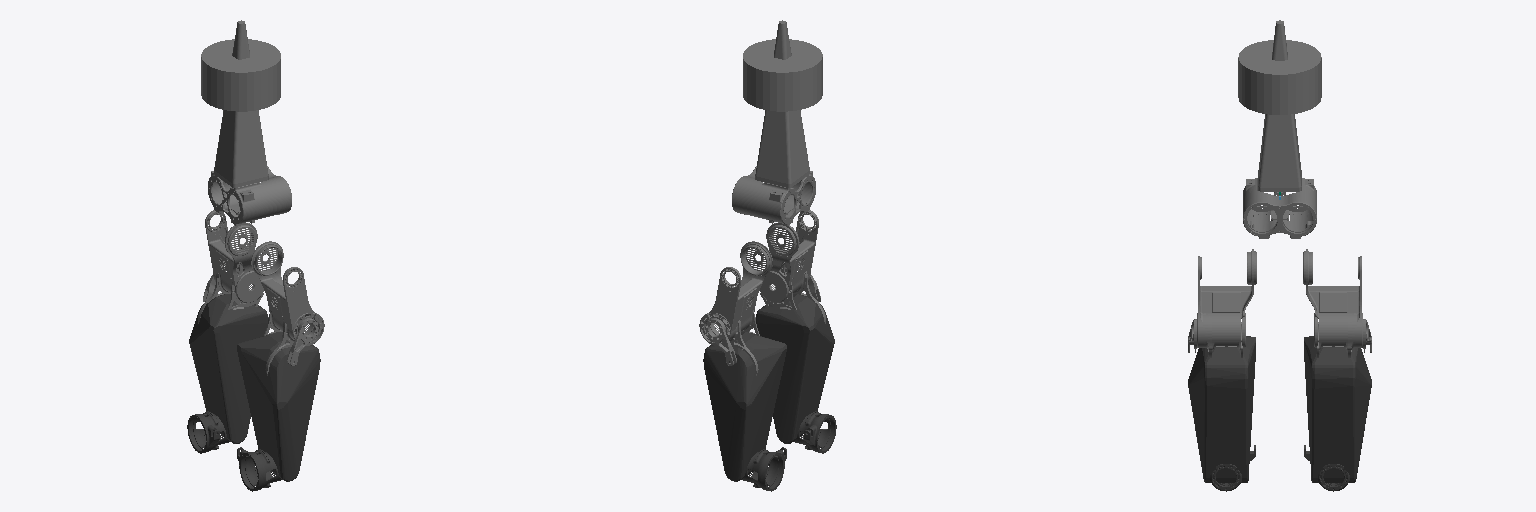
--- Facts derived from the render (not from the file) ---
Views: 3 orthographic renders of the robot side by side, from view 1: azimuth 30°, elevation 25°; view 2: azimuth 150°, elevation 25°; view 3: azimuth 270°, elevation 25°.
Model bigman with 35 links and 34 joints (12 revolute, 21 fixed, 1 floating), rooted at world, posed every joint at zero.
Visible links, largest first — view 1: RLowLeg, LLowLeg, ExtraWeight, RThighLowLeg, LThighLowLeg, PelvisWeightBench, Waist, RFootmot, LFootmot; view 2: LLowLeg, RLowLeg, ExtraWeight, LThighLowLeg, RThighLowLeg, PelvisWeightBench, Waist, LFootmot, RFootmot; view 3: RLowLeg, LLowLeg, ExtraWeight, RThighLowLeg, LThighLowLeg, PelvisWeightBench, Waist.
Link boxes in pixels (x1,y1,x2,y2): RLowLeg: [237, 332, 320, 481]; LLowLeg: [189, 294, 267, 443]; ExtraWeight: [201, 39, 280, 111]; RThighLowLeg: [251, 241, 324, 375]; LThighLowLeg: [198, 210, 263, 323]; PelvisWeightBench: [214, 20, 268, 187]; Waist: [208, 166, 291, 225]; RFootmot: [237, 447, 281, 491]; LFootmot: [187, 411, 229, 453]; LLowLeg: [703, 332, 786, 481]; RLowLeg: [756, 294, 834, 443]; ExtraWeight: [743, 39, 822, 111]; LThighLowLeg: [699, 241, 772, 375]; RThighLowLeg: [760, 210, 825, 323]; PelvisWeightBench: [755, 20, 809, 187]; Waist: [732, 166, 815, 225]; LFootmot: [742, 447, 786, 491]; RFootmot: [794, 411, 836, 453]; RLowLeg: [1188, 336, 1255, 482]; LLowLeg: [1304, 336, 1371, 482]; ExtraWeight: [1238, 40, 1321, 114]; RThighLowLeg: [1188, 249, 1256, 357]; LThighLowLeg: [1303, 249, 1371, 357]; PelvisWeightBench: [1258, 20, 1301, 191]; Waist: [1243, 178, 1316, 238].
Bounding box of the posed robot: 0.317 × 0.6161 × 1.71 m (x, y, z).
Meshes: 8 distinct files referenced, 8 mesh visuals loaded (5 binary STL); not drawn: 2 (reference not matched to a file when rendering), 4 (file found but could not be loaded).

robot.urdf — bigman:
<?xml version="1.0" ?>
<!-- =================================================================================== -->
<!-- |    This document was autogenerated by xacro from bigman_robot.urdf.xacro        | -->
<!-- |    EDITING THIS FILE BY HAND IS NOT RECOMMENDED                                 | -->
<!-- =================================================================================== -->
<!--robot xmlns:xacro="http://ros.org/wiki/xacro" name="bigman"-->
<robot name="bigman" xmlns:xacro="http://ros.org/wiki/xacro">
  <!--
  ROS urdf definition of the BIGMAN humanoid robot by Istituto Italiano di Tecnologia
  
  Author: Enrico Mingo
  
  This file groups files to use BIGMAN in GAZEBO
  
  -->
  <!-- Uncomment this to have the robot rigidly connected to the world -->
  <!--  <link name="world"/>
  
   <joint name="fixed" type="fixed">
    <parent link="world"/>
    <child link="base_link"/>
  </joint>
  
  <origin xyz="0.0 0.0 1.5" rpy="0 0 0" /> -->
  <!-- ROBOT -->
  <!-- 
  ROS urdf definition of the BIGMAN humanoid robot by Istituto Italiano di Tecnologia
  
  DO NOT INCLUDE THIS FILE DIRECTLY! USE bigman_robot.urdf.xacro INSTEAD!

  Author: Enrico Mingo & Alessio Rocchi

  Inertial matrix has to be in CoM frame (URDF specs)

  Velocity and effort limits are fake!
-->
  <!-- ************ MODEL CONFIGURATION ************ -->
  <!--
####################################################
##
##  BIGMAN_YARP
##  if "true" the bigman robot is controlled via YARP
##
####################################################
-->
  <!--
####################################################
##
##  BIGMAN_XBOT
##  if "true" the bigman robot is controlled via
##  XBotCore Suite
##
####################################################
-->
  <!--
####################################################
##
##  BIGMAN_UPPER_BODY
##  if "true" the kinematic chains of the arms and torso 
##  will be used to generate the model
##
####################################################
-->
  <!--
####################################################
##
##  BIGMAN_LEGS
##  if "true" the kinematic chains of the legs
##  will be used to generate the model
##
####################################################
-->
  <!--
####################################################
##
##  BIGMAN_OLD_CHEST
##  if "true" the old version of the chest will be
##  used.
##  
##
####################################################
-->
  <!--
####################################################
##
##  BIGMAN_FIXED_HANDS
##  if "true" a fixed joint between wrist and hand 
##  will be used otherwise a rotative joints will
##  be used.
##  
##
####################################################
-->
  <!--
####################################################
##
##  BIGMAN_FIXED_MULTISENSE
##  if "true" a fixed joint between "head" and 
##  "hokuyo_link" will be used otherwise a continuous 
##  joints will be used.
##  
##
####################################################
-->
  <!--
####################################################
##
##  BIGMAN_HEAD
##  if "true" a fixed joint between "NeckPitch" and
##  "head" will be used to connect the head to the rest
##  of the body. If "false" the head will not be added 
##  to the model (this is the case when the multisense
##  from the launch file is used). 
##  
##
####################################################
-->
  <!--
####################################################
##
##  BIGMAN_ADD_PROTECTIONS
##  if "true" the protections are added to the model.
##  
##
####################################################
-->
  <!--
####################################################
##
##  BIGMAN_ADD_BACKPACK
##  if "true" the backpack is added to the model.
##  
##
####################################################
-->
  <!--
####################################################
##
##  BIGMAN_ADD_RAISING_SUPPORT
##  if "true" the raising support are added to the model.
##  
##
####################################################
-->
  <!--
####################################################
##
##  BIGMAN_NEW_FEET
##  if "true" the new feet with the joint in the middle
##  are used to the model.
##  
##
####################################################
-->
  <!--
####################################################
##
##  BIGMAN_SAFETY_JOINT_LIMITS_X
##  if "true" the more strict joint limits are used 
##  for the X part
##  
##
####################################################
-->
  <!--
####################################################
##
##  BIGMAN_FLOATING_BASE
##  if "true" virtual kinematic chains is attached between 
##  "world" and "base_link"
##  
##
####################################################
-->
  <!--
####################################################
##
##  BIGMAN_MAGNETIC_ATTACH_ROS
##  if "true" the magnetic_attach_ros plugin is used
##  for the hands
##  
##
####################################################
-->
  <!-- ***********  MODEL COLORS *********** -->
  <material name="grey">
    <color rgba="0.5 0.5 0.5 1"/>
  </material>
  <material name="dark_grey">
    <color rgba="0.3 0.3 0.3 1"/>
  </material>
  <material name="blue">
    <color rgba="0.0 0.2 0.3 1"/>
  </material>
  <!-- ************ BIGMAN BASE ************** -->
  <!-- 
  ROS urdf definition of the BIGMAN humanoid robot by Istituto Italiano di Tecnologia
  
  DO NOT INCLUDE THIS FILE DIRECTLY! USE bigman_robot.urdf.xacro INSTEAD!

  Author: Enrico Mingo & Alessio Rocchi

  Inertial matrix has to be in CoM frame (URDF specs)

  Velocity and effort limits are fake!
-->
  <!--
The coordinate frame called base_link is rigidly attached to the robot root body. It is recommended to choose the robot waist as its root body. The base_link can be attached to the root in any arbitrary position or orientation; for every hardware platform there will be a different place on the base that provides an obvious point of reference. Note that REP 103 [1] specifies a preferred orientation for frames. -->
  <link name="base_link"/>
  <link name="Waist">
    <inertial>
      <origin rpy="0.0 0.0 0.0" xyz="-0.022813402 -0.00073935443 0.030422909"/>
      <mass value="1.1046081e+01"/>
      <inertia ixx="0.096207978" ixy="0.00014081043" ixz="0.0031258127" iyy="0.098511158" iyz="0.00013938149" izz="0.086541531"/>
    </inertial>
    <visual>
      <origin rpy="0 0 0" xyz="0 0 0"/>
      <geometry name="Waist_visual">
        <mesh filename="package://bigman_urdf/meshes/Waist.STL" scale="0.001 0.001 0.001"/>
      </geometry>
      <material name="grey"/>
    </visual>
    <collision>
      <origin rpy="0 0 0" xyz="0 0 0"/>
      <geometry name="Waist_collision">
        <mesh filename="package://bigman_urdf/meshes/simple/Waist.STL" scale="0.001 0.001 0.001"/>
      </geometry>
    </collision>
  </link>
  <joint name="base_joint" type="fixed">
    <parent link="base_link"/>
    <child link="Waist"/>
    <origin rpy="0 0 0" xyz="0 0 0"/>
  </joint>
  <!-- ********************FAKE TORSO******************** -->
  <!-- ************** CHANGE BY USER ************** -->
  <!-- ******************************************** -->
  <link name="PelvisWeightBench">
    <inertial>
      <origin rpy="0 0 0" xyz="0.0 0.0 0.18846109"/>
      <mass value="5.5278386"/>
      <inertia ixx="0.15195067" ixy="0.0" ixz="-2.419189e-07" iyy="0.15213465" iyz="0.0" izz="0.0051389419"/>
    </inertial>
    <visual>
      <origin rpy="0 0 0" xyz="0 0 0"/>
      <geometry name="PelvisWeightBench_visual">
        <mesh filename="package://bigman_urdf/meshes/PelvisWeightBench.STL" scale="0.001 0.001 0.001"/>
      </geometry>
      <material name="grey"/>
    </visual>
    <collision>
      <origin rpy="0 0 0" xyz="0 0 0"/>
      <geometry name="PelvisWeightBench_collision">
        <mesh filename="package://bigman_urdf/meshes/simple/PelvisWeightBench.STL" scale="0.001 0.001 0.001"/>
      </geometry>
    </collision>
  </link>
  <link name="ExtraWeight">
    <inertial>
      <origin rpy="0 0 0" xyz="0.0 0.0 0.075"/>
      <mass value="20.0"/>
      <inertia ixx="0.1355" ixy="0.0" ixz="0.0" iyy="0.1355" iyz="0.0" izz="0.196"/>
    </inertial>
    <visual>
      <origin rpy="0 0 0" xyz="0 0 0"/>
      <geometry name="ExtraWeight_visual">
        <cylinder length="0.15" radius="0.14"/>
      </geometry>
      <material name="grey"/>
    </visual>
    <collision>
      <origin rpy="0 0 0" xyz="0 0 0"/>
      <geometry name="ExtraWeight_collision">
        <cylinder length="0.15" radius="0.14"/>
      </geometry>
    </collision>
  </link>
  <joint name="PelvisWeightBench_joint" type="fixed">
    <parent link="Waist"/>
    <child link="PelvisWeightBench"/>
    <origin rpy="0 0 1.57079632679" xyz="-0.035 0 0.075"/>
  </joint>
  <joint name="ExtraWeight_joint" type="fixed">
    <parent link="PelvisWeightBench"/>
    <child link="ExtraWeight"/>
    <origin rpy="0 0 0" xyz="0.0 0 0.39"/>
  </joint>
  <!-- ********************LEGS******************** -->
  <!-- This links are defined in order to be compliant with http://www.ros.org/reps/rep-0120.html#coordinate-frames
	and to define the end effectors of the robot -->
  <!--  position and orientation of the leg regardless of the support body geometry -->
  <link name="l_ankle"/>
  <link name="r_ankle"/>
  <!-- position and orientation of the left leg support body. The (X,Y) plane of this frame must be coplanar with the support body contact surface. It is recommended to choose the origin as the projection of the support body origin on the contact surface. The Z coordinate of this frame should be on the ground level when standing. -->
  <link name="l_sole"/>
  <link name="r_sole"/>
  <!--  position and orientation of the leg toe body. The (X,Y) plan of this frame must be coplanar with the toe body contact surface. It is recommended to choose the origin as the projection of the body center on the contact surface. -->
  <link name="l_toe"/>
  <link name="r_toe"/>
  <!-- LINKS -->
  <!-- ********************RIGHT LEG******************** -->
  <link name="RHipMot">
    <inertial>
      <origin rpy="0 0 0" xyz="-0.10348188 -0.10919813 -0.064924056"/>
      <mass value="3.7958197"/>
      <inertia ixx="0.015639017" ixy="0.0018504661" ixz="0.0023907793" iyy="0.023519749" iyz="-0.0023303162" izz="0.020953643"/>
    </inertial>
    <visual>
      <origin rpy="0 0 0" xyz="0 0 0"/>
      <geometry name="RHipMot_visual">
        <mesh filename="package://bigman_urdf/meshes/HipRoll.STL" scale="0.001 0.001 0.001"/>
      </geometry>
      <material name="dark_grey"/>
    </visual>
    <collision>
      <origin rpy="0 0 0" xyz="0 0 0"/>
      <geometry name="RHipMot_collision">
        <mesh filename="package://bigman_urdf/meshes/simple/HipRoll.STL" scale="0.001 0.001 0.001"/>
      </geometry>
    </collision>
  </link>
  <link name="RThighUpLeg">
    <inertial>
      <origin rpy="0 0 0" xyz="-0.0052929709 -0.022561833 0.0056701669"/>
      <mass value="3.2402068"/>
      <inertia ixx="0.010102097" ixy="0.00010858487" ixz="0.00025291395" iyy="0.0067147" iyz="8.3447072e-05" izz="0.01048513"/>
    </inertial>
    <visual>
      <origin rpy="0 0 0" xyz="0 0 0"/>
      <geometry name="RThighUpLeg_visual">
        <mesh filename="package://bigman_urdf/meshes/HipYaw.STL" scale="0.001 0.001 0.001"/>
      </geometry>
      <material name="dark_grey"/>
    </visual>
    <collision>
      <origin rpy="0 0 0" xyz="0 0 0"/>
      <geometry name="RThighUpLeg_collision">
        <mesh filename="package://bigman_urdf/meshes/simple/HipYaw.STL" scale="0.001 0.001 0.001"/>
      </geometry>
    </collision>
  </link>
  <link name="RThighLowLeg">
    <inertial>
      <origin rpy="0 0 0" xyz="0.037746286 -0.028539939 -0.19310133"/>
      <mass value="5.0950736"/>
      <inertia ixx="0.051607858" ixy="0.0022253472" ixz="0.002452979" iyy="0.044349153" iyz="-0.0041006942" izz="0.023374453"/>
    </inertial>
    <visual>
      <origin rpy="0 0 0" xyz="0 0 0"/>
      <geometry name="RThighLowLeg_visual">
        <mesh filename="package://bigman_urdf/meshes/HipPitch.STL" scale="0.001 0.001 0.001"/>
      </geometry>
      <material name="grey"/>
    </visual>
    <collision>
      <origin rpy="0 0 0" xyz="0 0 0"/>
      <geometry name="RThighLowLeg_collision">
        <mesh filename="package://bigman_urdf/meshes/simple/HipPitch.STL" scale="0.001 0.001 0.001"/>
      </geometry>
    </collision>
  </link>
  <link name="RLowLeg">
    <inertial>
      <origin rpy="0 0 0" xyz="-0.0050828668 0.0037732093 -0.072605017"/>
      <mass value="5.6495309"/>
      <inertia ixx="0.10535542" ixy="-0.00058199221" ixz="0.0016743598" iyy="0.097857796" iyz="-0.0033770181" izz="0.020854086"/>
    </inertial>
    <visual>
      <origin rpy="0 0 0" xyz="0 0 0"/>
      <geometry name="RLowLeg_visual">
        <mesh filename="package://bigman_urdf/meshes/KneePitchCalf.STL" scale="0.001 0.001 0.001"/>
      </geometry>
      <material name="dark_grey"/>
    </visual>
    <collision>
      <origin rpy="0 0 0" xyz="0 0 0"/>
      <geometry name="RLowLeg_collision">
        <mesh filename="package://bigman_urdf/meshes/simple/KneePitchCalf.STL" scale="0.001 0.001 0.001"/>
      </geometry>
    </collision>
  </link>
  <link name="RFootmot">
    <inertial>
      <origin rpy="0 0 0" xyz="-0.022024173 0.0025677238 0.00094588455"/>
      <mass value="3.2844159"/>
      <inertia ixx="0.0075550679" ixy="0.00067488292" ixz="5.8332889e-05" iyy="0.011241163" iyz="-0.00014552081" izz="0.013391865"/>
    </inertial>
    <visual>
      <origin rpy="0 0 0" xyz="0 0 0"/>
      <geometry name="RFootmot_visual">
        <mesh filename="package://bigman_urdf/meshes/AnklePitch.STL" scale="0.001 0.001 0.001"/>
      </geometry>
      <material name="dark_grey"/>
    </visual>
    <collision>
      <origin rpy="0 0 0" xyz="0 0 0"/>
      <geometry name="RFootmot_collision">
        <mesh filename="package://bigman_urdf/meshes/simple/AnklePitch.STL" scale="0.001 0.001 0.001"/>
      </geometry>
    </collision>
  </link>
  <link name="RFoot">
    <inertial>
      <origin rpy="0 0 0" xyz="-0.00653584 -0.00479384 -0.10180375"/>
      <mass value="3.42638110"/>
      <inertia ixx="0.01032886" ixy="-0.00016407" ixz="-0.00201294" iyy="0.02854025" iyz="0.00046315" izz="0.02799499"/>
    </inertial>
    <visual>
      <origin rpy="0 0 0" xyz="0 0 0"/>
      <geometry name="RFoot_visual">
        <mesh filename="package://bigman_urdf/meshes/NewFoot.STL" scale="0.001 0.001 0.001"/>
      </geometry>
      <material name="dark_grey"/>
    </visual>
    <collision>
      <!--<origin xyz="0 0 0" rpy="0 0 0"/>
      <geometry name="RFoot_collision">
        <mesh filename="package://bigman_urdf/meshes/simple/Foot.STL" scale="0.001 -0.001 0.001"/>
      </geometry>-->
      <origin rpy="0 0 0" xyz="0.005 -0.01 -0.1359"/>
      <geometry>
        <box size="0.32 0.16 0.015"/>
      </geometry>
    </collision>
  </link>
  <!-- ********************LEFT LEG******************** -->
  <link name="LHipMot">
    <inertial>
      <origin rpy="0 0 0" xyz="-0.10348188 0.10919813 -0.064924056"/>
      <mass value="3.7958197"/>
      <inertia ixx="0.015639017" ixy="-0.0018504661" ixz="0.0023907793" iyy="0.023519749" iyz="0.0023303162" izz="0.020953643"/>
    </inertial>
    <visual>
      <origin rpy="0 0 0" xyz="0 0 0"/>
      <geometry name="LHipMot_visual">
        <mesh filename="package://bigman_urdf/meshes/HipRoll.STL" scale="0.001 -0.001 0.001"/>
      </geometry>
      <material name="dark_grey"/>
    </visual>
    <collision>
      <origin rpy="0 0 0" xyz="0 0 0"/>
      <geometry name="LHipMot_collision">
        <mesh filename="package://bigman_urdf/meshes/simple/HipRoll.STL" scale="0.001 -0.001 0.001"/>
      </geometry>
    </collision>
  </link>
  <link name="LThighUpLeg">
    <inertial>
      <origin rpy="0 0 0" xyz="-0.0052929709 0.022561833 0.0056701669"/>
      <mass value="3.2402068"/>
      <inertia ixx="0.010102097" ixy="-0.00010858487" ixz="0.00025291395" iyy="0.0067147" iyz="-8.3447072e-05" izz="0.01048513"/>
    </inertial>
    <visual>
      <origin rpy="0 0 0" xyz="0 0 0"/>
      <geometry name="LThighUpLeg_visual">
        <mesh filename="package://bigman_urdf/meshes/HipYaw.STL" scale="0.001 -0.001 0.001"/>
      </geometry>
      <material name="dark_grey"/>
    </visual>
    <collision>
      <origin rpy="0 0 0" xyz="0 0 0"/>
      <geometry name="LThighUpLeg_collision">
        <mesh filename="package://bigman_urdf/meshes/simple/HipYaw.STL" scale="0.001 -0.001 0.001"/>
      </geometry>
    </collision>
  </link>
  <link name="LThighLowLeg">
    <inertial>
      <origin rpy="0 0 0" xyz="0.037746286 0.028539939 -0.19310133"/>
      <mass value="5.0950736"/>
      <inertia ixx="0.051607858" ixy="-0.0022253472" ixz="0.002452979" iyy="0.044349153" iyz="0.0041006942" izz="0.023374453"/>
    </inertial>
    <visual>
      <origin rpy="0 0 0" xyz="0 0 0"/>
      <geometry name="LThighLowLeg_visual">
        <mesh filename="package://bigman_urdf/meshes/HipPitch.STL" scale="0.001 -0.001 0.001"/>
      </geometry>
      <material name="grey"/>
    </visual>
    <collision>
      <origin rpy="0 0 0" xyz="0 0 0"/>
      <geometry name="LThighLowLeg_collision">
        <mesh filename="package://bigman_urdf/meshes/simple/HipPitch.STL" scale="0.001 -0.001 0.001"/>
      </geometry>
    </collision>
  </link>
  <link name="LLowLeg">
    <inertial>
      <origin rpy="0 0 0" xyz="-0.0050828668 -0.0037732093 -0.072605017"/>
      <mass value="5.6495309"/>
      <inertia ixx="0.10535542" ixy="0.00058199221" ixz="0.0016743598" iyy="0.097857796" iyz="0.0033770181" izz="0.020854086"/>
    </inertial>
    <visual>
      <origin rpy="0 0 0" xyz="0 0 0"/>
      <geometry name="LLowLeg_visual">
        <mesh filename="package://bigman_urdf/meshes/KneePitchCalf.STL" scale="0.001 -0.001 0.001"/>
      </geometry>
      <material name="dark_grey"/>
    </visual>
    <collision>
      <origin rpy="0 0 0" xyz="0 0 0"/>
      <geometry name="LLowLeg_collision">
        <mesh filename="package://bigman_urdf/meshes/simple/KneePitchCalf.STL" scale="0.001 -0.001 0.001"/>
      </geometry>
    </collision>
  </link>
  <link name="LFootmot">
    <inertial>
      <origin rpy="0 0 0" xyz="-0.022024173 -0.0025677238 0.00094588455"/>
      <mass value="3.2844159"/>
      <inertia ixx="0.0075550679" ixy="-0.00067488292" ixz="5.8332889e-05" iyy="0.011241163" iyz="0.00014552081" izz="0.013391865"/>
    </inertial>
    <visual>
      <origin rpy="0 0 0" xyz="0 0 0"/>
      <geometry name="LFootmot_visual">
        <mesh filename="package://bigman_urdf/meshes/AnklePitch.STL" scale="0.001 -0.001 0.001"/>
      </geometry>
      <material name="dark_grey"/>
    </visual>
    <collision>
      <origin rpy="0 0 0" xyz="0 0 0"/>
      <geometry name="LFootmot_collision">
        <mesh filename="package://bigman_urdf/meshes/simple/AnklePitch.STL" scale="0.001 -0.001 0.001"/>
      </geometry>
    </collision>
  </link>
  <link name="LFoot">
    <inertial>
      <origin rpy="0 0 0" xyz="-0.00653584 0.00479384 -0.10180375"/>
      <mass value="3.42638110"/>
      <inertia ixx="0.01032886" ixy="0.00016407" ixz="-0.00201294" iyy="0.02854025" iyz="-0.00046315" izz="0.02799499"/>
    </inertial>
    <visual>
      <origin rpy="0 0 0" xyz="0 0 0"/>
      <geometry name="LFoot_visual">
        <mesh filename="package://bigman_urdf/meshes/NewFoot.STL" scale="0.001 -0.001 0.001"/>
      </geometry>
      <material name="dark_grey"/>
    </visual>
    <collision>
      <!--
      <origin xyz="0 0 0" rpy="0 0 0"/>
      <geometry name="LFoot_collision">
        <mesh filename="package://bigman_urdf/meshes/simple/Foot.STL" scale="0.001 0.001 0.001"/>
      </geometry>
      -->
      <origin rpy="0 0 0" xyz="0.005 0.01 -0.1359"/>
      <geometry>
        <box size="0.32 0.16 0.015"/>
      </geometry>
    </collision>
  </link>
  <!-- JOINTS -->
  <!-- ********************RIGHT LEG******************** -->
  <joint name="RHipLat" type="revolute">
    <parent link="Waist"/>
    <child link="RHipMot"/>
    <origin rpy="0 0 0" xyz="0.1059 -0.06 0.0"/>
    <axis xyz="1 0 0"/>
    <limit effort="400" lower="-0.87222" upper="0.697778" velocity="6.283"/>
    <dynamics damping="3.0" friction="0"/>
  </joint>
  <joint name="RHipYaw" type="revolute">
    <parent link="RHipMot"/>
    <child link="RThighUpLeg"/>
    <origin rpy="0 0 0" xyz="-0.0889 -0.121032 -0.217872"/>
    <axis xyz="0 0 1"/>
    <limit effort="140" lower="-1.57" upper="0.872222" velocity="6.283"/>
    <dynamics damping="3.0" friction="0"/>
  </joint>
  <joint name="RHipSag" type="revolute">
    <parent link="RThighUpLeg"/>
    <child link="RThighLowLeg"/>
    <origin rpy="0 0 0" xyz="0.0 0.0 0.0"/>
    <axis xyz="0 1 0"/>
    <limit effort="400" lower="-2.09333" upper="1.046667" velocity="6.283"/>
    <dynamics damping="3.0" friction="0"/>
  </joint>
  <joint name="RKneeSag" type="revolute">
    <parent link="RThighLowLeg"/>
    <child link="RLowLeg"/>
    <origin rpy="0 0 0" xyz="0.0 0.0 -0.356"/>
    <axis xyz="0 1 0"/>
    <limit effort="400" lower="0.0" upper="2.442222" velocity="6.283"/>
    <dynamics damping="3.0" friction="0"/>
  </joint>
  <joint name="RAnkSag" type="revolute">
    <parent link="RLowLeg"/>
    <child link="RFootmot"/>
    <origin rpy="0 0 0" xyz="0.0 0.0 -0.4"/>
    <axis xyz="0 1 0"/>
    <limit effort="330" lower="-1.39556" upper="0.697778" velocity="6.283"/>
    <dynamics damping="3.0" friction="0"/>
  </joint>
  <joint name="RAnkLat" type="revolute">
    <parent link="RFootmot"/>
    <child link="RFoot"/>
    <origin rpy="0 0 0" xyz="0.0 0.0 0.0"/>
    <axis xyz="1 0 0"/>
    <limit effort="210" lower="-0.785" upper="0.785" velocity="6.283"/>
    <dynamics damping="3.0" friction="0"/>
  </joint>
  <!-- ********************LEFT LEG******************** -->
  <joint name="LHipLat" type="revolute">
    <parent link="Waist"/>
    <child link="LHipMot"/>
    <origin rpy="0 0 0" xyz="0.1059 0.06 0.0"/>
    <axis xyz="1 0 0"/>
    <limit effort="400" lower="-0.697778" upper="0.87222" velocity="6.283"/>
    <dynamics damping="3.0" friction="0"/>
  </joint>
  <joint name="LHipYaw" type="revolute">
    <parent link="LHipMot"/>
    <child link="LThighUpLeg"/>
    <origin rpy="0 0 0" xyz="-0.0889 0.121032 -0.217872"/>
    <axis xyz="0 0 1"/>
    <limit effort="140" lower="-0.872222" upper="1.57" velocity="6.283"/>
    <dynamics damping="3.0" friction="0"/>
  </joint>
  <joint name="LHipSag" type="revolute">
    <parent link="LThighUpLeg"/>
    <child link="LThighLowLeg"/>
    <origin rpy="0 0 0" xyz="0.0 0.0 0.0"/>
    <axis xyz="0 1 0"/>
    <limit effort="400" lower="-2.09333" upper="1.046667" velocity="6.283"/>
    <dynamics damping="3.0" friction="0"/>
  </joint>
  <joint name="LKneeSag" type="revolute">
    <parent link="LThighLowLeg"/>
    <child link="LLowLeg"/>
    <origin rpy="0 0 0" xyz="0.0 0.0 -0.356"/>
    <axis xyz="0 1 0"/>
    <limit effort="400" lower="0.0" upper="2.442222" velocity="6.283"/>
    <dynamics damping="3.0" friction="0"/>
  </joint>
  <joint name="LAnkSag" type="revolute">
    <parent link="LLowLeg"/>
    <child link="LFootmot"/>
    <origin rpy="0 0 0" xyz="0.0 0.0 -0.4"/>
    <axis xyz="0 1 0"/>
    <limit effort="330" lower="-1.39556" upper="0.697778" velocity="6.283"/>
    <dynamics damping="3.0" friction="0"/>
  </joint>
  <joint name="LAnkLat" type="revolute">
    <parent link="LFootmot"/>
    <child link="LFoot"/>
    <origin rpy="0 0 0" xyz="0.0 0.0 0.0"/>
    <axis xyz="1 0 0"/>
    <limit effort="210" lower="-0.785" upper="0.785" velocity="6.283"/>
    <dynamics damping="3.0" friction="0"/>
  </joint>
  <joint name="l_ankle_joint" type="fixed">
    <parent link="LFoot"/>
    <child link="l_ankle"/>
    <origin rpy="0 0 0" xyz="0 0 0"/>
  </joint>
  <joint name="r_ankle_joint" type="fixed">
    <parent link="RFoot"/>
    <child link="r_ankle"/>
    <origin rpy="0 0 0" xyz="0 0 0"/>
  </joint>
  <joint name="l_sole_joint" type="fixed">
    <parent link="LFoot"/>
    <child link="l_sole"/>
    <origin rpy="0 0 0" xyz="0 0 -0.1435"/>
  </joint>
  <joint name="r_sole_joint" type="fixed">
    <parent link="RFoot"/>
    <child link="r_sole"/>
    <origin rpy="0 0 0" xyz="0 0 -0.1435"/>
  </joint>
  <joint name="l_toe_joint" type="fixed">
    <parent link="l_sole"/>
    <child link="l_toe"/>
    <origin rpy="0 0 0" xyz="0.16 0 0"/>
  </joint>
  <joint name="r_toe_joint" type="fixed">
    <parent link="r_sole"/>
    <child link="r_toe"/>
    <origin rpy="0 0 0" xyz="0.16 0 0"/>
  </joint>
  <!-- Reference frames in feet -->
  <!-- macro for reference frames in foot -->
  <!-- macro for one reference frame in foot -->
  <link name="l_foot_upper_right_link"/>
  <joint name="l_foot_upper_right_joint" type="fixed">
    <origin rpy="0 0 0" xyz="0.16 -0.07 0"/>
    <parent link="l_sole"/>
    <child link="l_foot_upper_right_link"/>
  </joint>
  <!-- macro for one reference frame in foot -->
  <link name="l_foot_upper_left_link"/>
  <joint name="l_foot_upper_left_joint" type="fixed">
    <origin rpy="0 0 0" xyz="0.16 0.09 0"/>
    <parent link="l_sole"/>
    <child link="l_foot_upper_left_link"/>
  </joint>
  <!-- macro for one reference frame in foot -->
  <link name="l_foot_lower_right_link"/>
  <joint name="l_foot_lower_right_joint" type="fixed">
    <origin rpy="0 0 0" xyz="-0.16 -0.07 0"/>
    <parent link="l_sole"/>
    <child link="l_foot_lower_right_link"/>
  </joint>
  <!-- macro for one reference frame in foot -->
  <link name="l_foot_lower_left_link"/>
  <joint name="l_foot_lower_left_joint" type="fixed">
    <origin rpy="0 0 0" xyz="-0.16 0.09 0"/>
    <parent link="l_sole"/>
    <child link="l_foot_lower_left_link"/>
  </joint>
  <!-- macro for reference frames in foot -->
  <!-- macro for one reference frame in foot -->
  <link name="r_foot_upper_right_link"/>
  <joint name="r_foot_upper_right_joint" type="fixed">
    <origin rpy="0 0 0" xyz="0.16 0.07 0"/>
    <parent link="r_sole"/>
    <child link="r_foot_upper_right_link"/>
  </joint>
  <!-- macro for one reference frame in foot -->
  <link name="r_foot_upper_left_link"/>
  <joint name="r_foot_upper_left_joint" type="fixed">
    <origin rpy="0 0 0" xyz="0.16 -0.09 0"/>
    <parent link="r_sole"/>
    <child link="r_foot_upper_left_link"/>
  </joint>
  <!-- macro for one reference frame in foot -->
  <link name="r_foot_lower_right_link"/>
  <joint name="r_foot_lower_right_joint" type="fixed">
    <origin rpy="0 0 0" xyz="-0.16 0.07 0"/>
    <parent link="r_sole"/>
    <child link="r_foot_lower_right_link"/>
  </joint>
  <!-- macro for one reference frame in foot -->
  <link name="r_foot_lower_left_link"/>
  <joint name="r_foot_lower_left_joint" type="fixed">
    <origin rpy="0 0 0" xyz="-0.16 -0.09 0"/>
    <parent link="r_sole"/>
    <child link="r_foot_lower_left_link"/>
  </joint>
  <!-- ************ BIGMAN FLOATING BASE ************** -->
  <link name="world"/>
  <joint name="reference" type="floating">
    <origin xyz="0.0 0.0 0.0"/>
    <parent link="world"/>
    <child link="base_link"/>
  </joint>
  <!-- ***** LEGS F/T SENSOR REF FRAMES *******-->
  <link name="l_leg_ft"/>
  <link name="r_leg_ft"/>
  <joint name="l_leg_ft_joint" type="fixed">
    <parent link="LFoot"/>
    <child link="l_leg_ft"/>
    <origin rpy="0 0 0" xyz="0.005 0 -0.107"/>
  </joint>
  <joint name="r_leg_ft_joint" type="fixed">
    <parent link="RFoot"/>
    <child link="r_leg_ft"/>
    <origin rpy="0 0 0" xyz="0.005 0 -0.107"/>
  </joint>
  <!-- IMU -->
  <link name="imu_link">
    <inertial>
      <mass value="0.01"/>
      <origin xyz="0 0 0"/>
      <inertia ixx="1.0E-6" ixy="0" ixz="0" iyy="1.0E-6" iyz="0" izz="1.0E-6"/>
    </inertial>
    <visual>
      <origin rpy="0 0 0" xyz="0 0 0"/>
      <geometry>
        <box size="0.01 0.01 0.01"/>
      </geometry>
    </visual>
  </link>
  <link name="imu_link2">
    <inertial>
      <mass value="0.01"/>
      <origin xyz="0 0 0"/>
      <inertia ixx="1.0E-6" ixy="0" ixz="0" iyy="1.0E-6" iyz="0" izz="1.0E-6"/>
    </inertial>
    <visual>
      <origin rpy="0 0 0" xyz="0 0 0"/>
      <geometry>
        <box size="0.01 0.01 0.01"/>
      </geometry>
    </visual>
  </link>
  <joint name="imu_joint" type="fixed">
    <parent link="Waist"/>
    <child link="imu_link"/>
    <origin rpy="0 0 0" xyz="0.0535 0.0 0.0601"/>
  </joint>
  <joint name="imu_joint2" type="fixed">
    <parent link="Waist"/>
    <child link="imu_link2"/>
    <origin rpy="0 0 0" xyz="0.0135 0.0 0.0601"/>
  </joint>
  <origin rpy="0 0 0" xyz="0.0 0.0 1.12"/>
  <!--
  ROS urdf definition of the BIGMAN humanoid robot by Istituto Italiano di Tecnologia
  
  Author: Alessio Rocchi
  
  This file groups files to use BIGMAN in GAZEBO
  
  -->
  <gazebo reference="imu_link">
    <sensor name="imu_link" type="imu">
      <always_on>1</always_on>
      <update_rate>1000</update_rate>
      <visualize>true</visualize>
      <topic>__default_topic__</topic>
      <imu>
        <!--
          <noise>
           <type>gaussian</type>
            <rate>
             <mean>0.0</mean>
             <stddev>2e-4</stddev>
             <bias_mean>0.0000075</bias_mean>
             <bias_stddev>0.0000008</bias_stddev>
            </rate>
            <accel>
             <mean>0.0</mean>
             <stddev>1.7e-2</stddev>
             <bias_mean>0.1</bias_mean>
             <bias_stddev>0.001</bias_stddev>
            </accel>
          </noise>
          -->
      </imu>
    </sensor>
  </gazebo>
  <gazebo reference="imu_link2">
    <sensor name="imu_link2" type="imu">
      <always_on>1</always_on>
      <update_rate>1000</update_rate>
      <visualize>true</visualize>
      <topic>__default_topic__</topic>
      <imu>
        <!--
          <noise>
           <type>gaussian</type>
            <rate>
             <mean>0.0</mean>
             <stddev>2e-4</stddev>
             <bias_mean>0.0000075</bias_mean>
             <bias_stddev>0.0000008</bias_stddev>
            </rate>
            <accel>
             <mean>0.0</mean>
             <stddev>1.7e-2</stddev>
             <bias_mean>0.1</bias_mean>
             <bias_stddev>0.001</bias_stddev>
            </accel>
          </noise>
          -->
      </imu>
    </sensor>
  </gazebo>
  <gazebo reference="LAnkLat">
    <sensor name="l_leg_ft" type="force_torque">
      <force_torque>
        <frame>sensor</frame>
        <measure_direction>child_to_parent</measure_direction>
      </force_torque>
      <always_on>true</always_on>
      <visualize>true</visualize>
      <update_rate>1000</update_rate>
      <pose>0.005 0 -0.107 0 0 0</pose>
    </sensor>
  </gazebo>
  <gazebo reference="RAnkLat">
    <sensor name="r_leg_ft" type="force_torque">
      <force_torque>
        <frame>sensor</frame>
        <measure_direction>child_to_parent</measure_direction>
      </force_torque>
      <always_on>true</always_on>
      <visualize>true</visualize>
      <update_rate>1000</update_rate>
      <pose>0.005 0 -0.107 0 0 0</pose>
    </sensor>
  </gazebo>
  <!-- contact model for foot surface -->
  <gazebo reference="LFoot">
    <kp>1000000.0</kp>
    <kd>100.0</kd>
    <mu1>1.0</mu1>
    <mu2>1.0</mu2>
    <fdir1>1 0 0</fdir1>
    <maxVel>1.0</maxVel>
    <minDepth>0.0</minDepth>
  </gazebo>
  <gazebo reference="RFoot">
    <kp>1000000.0</kp>
    <kd>100.0</kd>
    <mu1>1.0</mu1>
    <mu2>1.0</mu2>
    <fdir1>1 0 0</fdir1>
    <maxVel>1.0</maxVel>
    <minDepth>0.0</minDepth>
  </gazebo>
  <gazebo reference="LLowLeg">
    <kp>1000000.0</kp>
    <kd>100.0</kd>
    <mu1>0.3</mu1>
    <mu2>0.3</mu2>
    <fdir1>1 0 0</fdir1>
    <maxVel>1.0</maxVel>
    <minDepth>0.0</minDepth>
  </gazebo>
  <gazebo reference="RLowLeg">
    <kp>1000000.0</kp>
    <kd>100.0</kd>
    <mu1>0.3</mu1>
    <mu2>0.3</mu2>
    <fdir1>1 0 0</fdir1>
    <maxVel>1.0</maxVel>
    <minDepth>0.0</minDepth>
  </gazebo>
  <!-- Other parameters... -->
  <gazebo reference="RHipSag">
    <implicitSpringDamper>1</implicitSpringDamper>
    <provideFeedback>true</provideFeedback>
  </gazebo>
  <gazebo reference="RHipLat">
    <implicitSpringDamper>1</implicitSpringDamper>
    <provideFeedback>true</provideFeedback>
  </gazebo>
  <gazebo reference="RHipYaw">
    <implicitSpringDamper>1</implicitSpringDamper>
    <provideFeedback>true</provideFeedback>
  </gazebo>
  <gazebo reference="RKneeSag">
    <implicitSpringDamper>1</implicitSpringDamper>
    <provideFeedback>true</provideFeedback>
  </gazebo>
  <gazebo reference="RAnkLat">
    <implicitSpringDamper>1</implicitSpringDamper>
    <provideFeedback>true</provideFeedback>
  </gazebo>
  <gazebo reference="RAnkSag">
    <implicitSpringDamper>1</implicitSpringDamper>
    <provideFeedback>true</provideFeedback>
  </gazebo>
  <gazebo reference="LHipSag">
    <implicitSpringDamper>1</implicitSpringDamper>
    <provideFeedback>true</provideFeedback>
  </gazebo>
  <gazebo reference="LHipLat">
    <implicitSpringDamper>1</implicitSpringDamper>
    <provideFeedback>true</provideFeedback>
  </gazebo>
  <gazebo reference="LHipYaw">
    <implicitSpringDamper>1</implicitSpringDamper>
    <provideFeedback>true</provideFeedback>
  </gazebo>
  <gazebo reference="LKneeSag">
    <implicitSpringDamper>1</implicitSpringDamper>
    <provideFeedback>true</provideFeedback>
  </gazebo>
  <gazebo reference="LAnkLat">
    <implicitSpringDamper>1</implicitSpringDamper>
    <provideFeedback>true</provideFeedback>
  </gazebo>
  <gazebo reference="LAnkSag">
    <implicitSpringDamper>1</implicitSpringDamper>
    <provideFeedback>true</provideFeedback>
  </gazebo>
  <!-- XBOTCORE PLUGINS for GAZEBO SIMULATION -->
  <gazebo>
    <plugin filename="libGazeboXBotPlugin.so" name="xbot_plugin_handler">
      <path_to_config_file>configs/ADVR_shared/bigman/configs/config_walkman_floating_base.yaml</path_to_config_file>
    </plugin>
  </gazebo>
  <!-- YARP PLUGINS for GAZEBO SIMULATION -->
  <gazebo reference="base_link">
    <material>Gazebo/Grey</material>
  </gazebo>
  <gazebo reference="DWL">
    <material>Gazebo/DarkGrey</material>
  </gazebo>
  <gazebo reference="DWS">
    <material>Gazebo/DarkGrey</material>
  </gazebo>
  <gazebo reference="DWYTorso">
    <material>Gazebo/Blue</material>
  </gazebo>
  <gazebo reference="RShp">
    <material>Gazebo/DarkGrey</material>
  </gazebo>
  <gazebo reference="RShr">
    <material>Gazebo/DarkGrey</material>
  </gazebo>
  <gazebo reference="RShy">
    <material>Gazebo/DarkGrey</material>
  </gazebo>
  <gazebo reference="RElb">
    <material>Gazebo/DarkGrey</material>
  </gazebo>
  <gazebo reference="RForearm">
    <material>Gazebo/DarkGrey</material>
  </gazebo>
  <gazebo reference="RWrMot2">
    <material>Gazebo/DarkGrey</material>
  </gazebo>
  <gazebo reference="RWrMot3">
    <material>Gazebo/Blue</material>
  </gazebo>
  <gazebo reference="RRaisingSupport">
    <material>Gazebo/DarkGrey</material>
  </gazebo>
  <gazebo reference="RSoftHand">
    <material>Gazebo/Black</material>
  </gazebo>
  <gazebo reference="LShp">
    <material>Gazebo/DarkGrey</material>
  </gazebo>
  <gazebo reference="LShr">
    <material>Gazebo/DarkGrey</material>
  </gazebo>
  <gazebo reference="LShy">
    <material>Gazebo/DarkGrey</material>
  </gazebo>
  <gazebo reference="LElb">
    <material>Gazebo/DarkGrey</material>
  </gazebo>
  <gazebo reference="LForearm">
    <material>Gazebo/DarkGrey</material>
  </gazebo>
  <gazebo reference="LWrMot2">
    <material>Gazebo/DarkGrey</material>
  </gazebo>
  <gazebo reference="LWrMot3">
    <material>Gazebo/Blue</material>
  </gazebo>
  <gazebo reference="LRaisingSupport">
    <material>Gazebo/DarkGrey</material>
  </gazebo>
  <gazebo reference="LSoftHand">
    <material>Gazebo/Black</material>
  </gazebo>
  <gazebo reference="RHipMot">
    <material>Gazebo/DarkGrey</material>
  </gazebo>
  <gazebo reference="RThighUpLeg">
    <material>Gazebo/DarkGrey</material>
  </gazebo>
  <gazebo reference="RThighLowLeg">
    <material>Gazebo/Grey</material>
  </gazebo>
  <gazebo reference="RLowLeg">
    <material>Gazebo/DarkGrey</material>
  </gazebo>
  <gazebo reference="RFootmot">
    <material>Gazebo/DarkGrey</material>
  </gazebo>
  <gazebo reference="RFoot">
    <material>Gazebo/DarkGrey</material>
  </gazebo>
  <gazebo reference="LHipMot">
    <material>Gazebo/DarkGrey</material>
  </gazebo>
  <gazebo reference="LThighUpLeg">
    <material>Gazebo/DarkGrey</material>
  </gazebo>
  <gazebo reference="LThighLowLeg">
    <material>Gazebo/Grey</material>
  </gazebo>
  <gazebo reference="LLowLeg">
    <material>Gazebo/DarkGrey</material>
  </gazebo>
  <gazebo reference="LFootmot">
    <material>Gazebo/DarkGrey</material>
  </gazebo>
  <gazebo reference="LFoot">
    <material>Gazebo/DarkGrey</material>
  </gazebo>
  <gazebo reference="head">
    <material>Gazebo/DarkGrey</material>
  </gazebo>
  <gazebo reference="hokuyo_link">
    <material>Gazebo/Black</material>
  </gazebo>
  <gazebo reference="NeckYaw">
    <material>Gazebo/Grey</material>
  </gazebo>
  <gazebo reference="NeckPitch">
    <material>Gazebo/Grey</material>
  </gazebo>
</robot>
